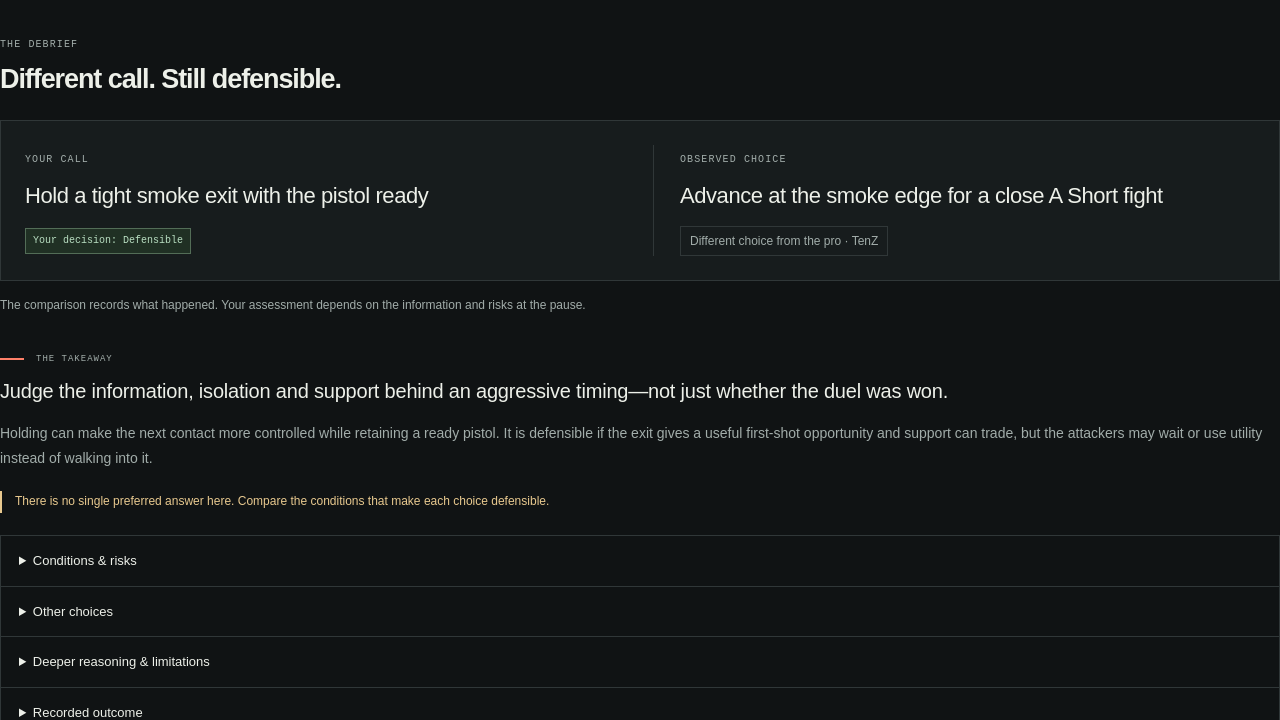
Test: shows the chosen explanation first while preserving expandable alternatives and risks
Expected: the text "Holding can make the next contact more controlled while retaining a ready pistol. It is defensible if the exit gives a u" is shown, [0, 425, 1262, 466]
Expected: the text "Judge the information, isolation and support behind an aggressive timing—not just whether the duel was won." is shown, [0, 380, 948, 402]
Click the heading "Conditions & risks".
click(85, 561)  # box [33, 553, 137, 568]
(page scrolled)
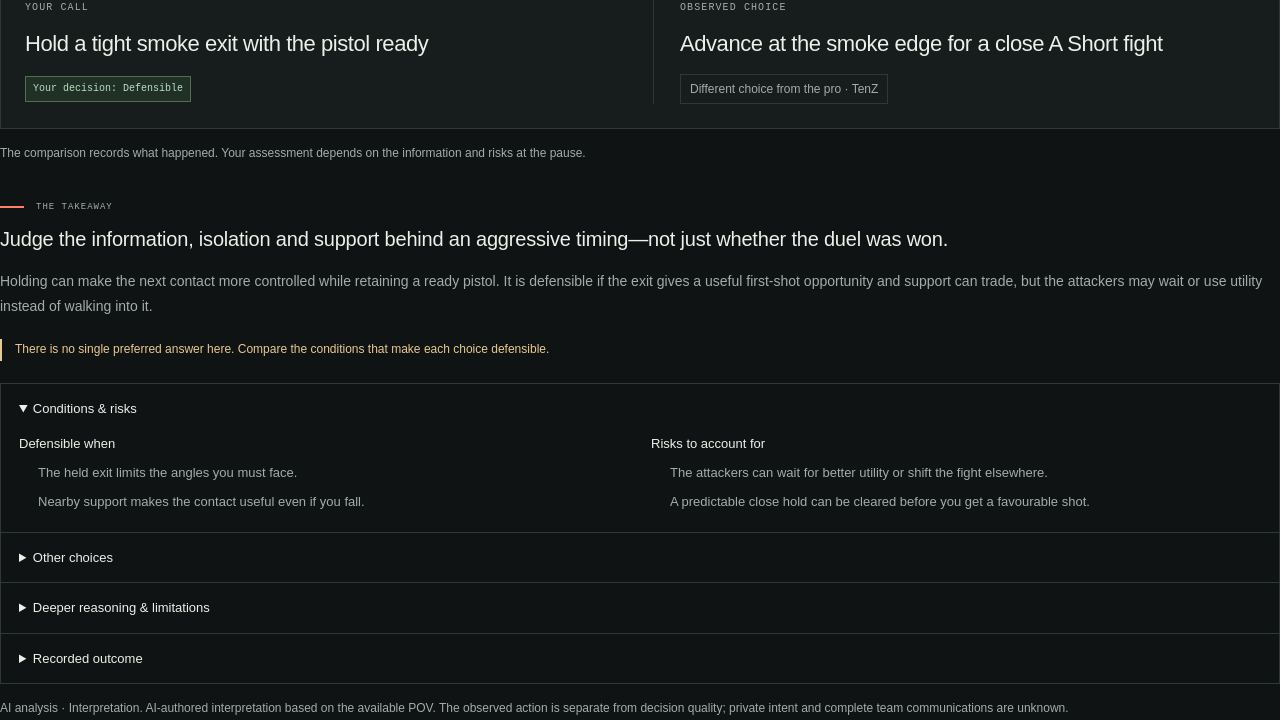
Expected: the heading "Defensible when" is shown, [19, 436, 115, 451]
Expected: the heading "Risks to account for" is shown, [651, 436, 765, 451]
Expected: the list item "The attackers can wait for better utility or shift the fight elsewhere." is shown, [670, 465, 1048, 480]
Click the heading "Other choices".
click(73, 557)  # box [33, 550, 113, 565]
(page scrolled)
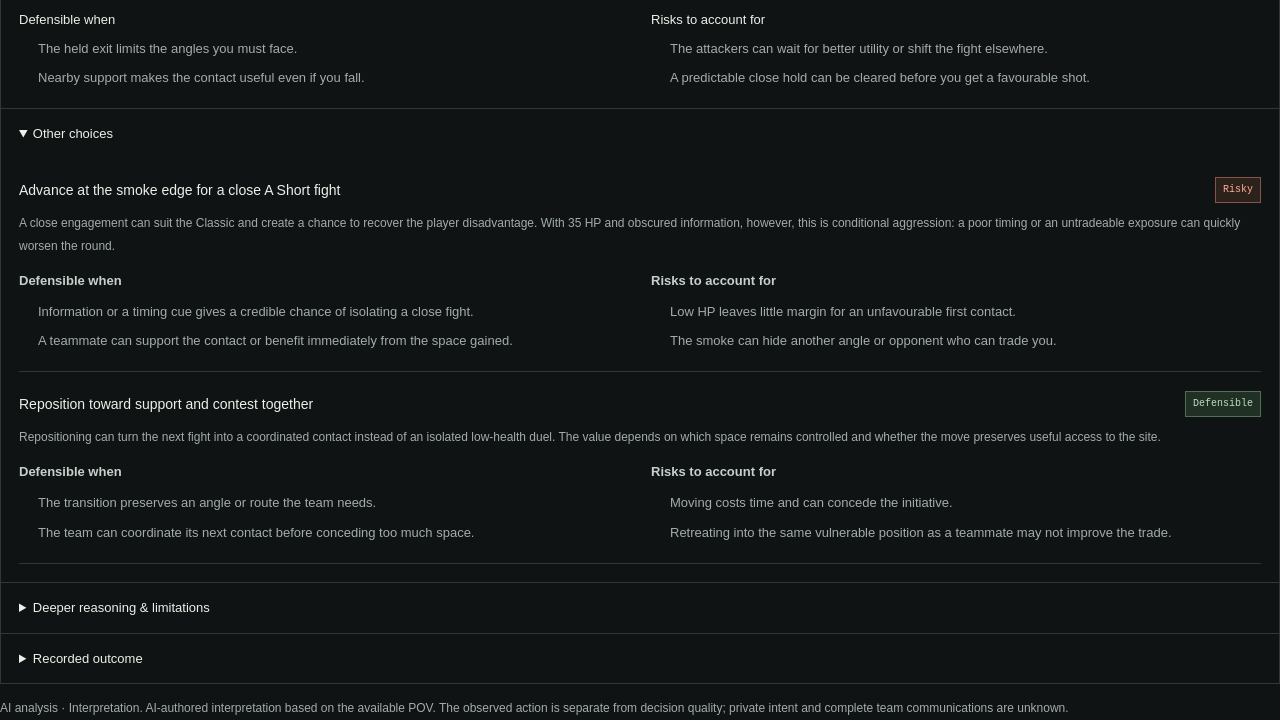
Expected: the text "A close engagement can suit the Classic and create a chance to recover the player disadvantage. With 35 HP and obscured " is shown, [19, 216, 1240, 252]
Expected: the heading "Advance at the smoke edge for a close A Short fight" is shown, [19, 180, 340, 201]
Expected: the 2nd heading "Defensible when" is shown, [19, 273, 122, 288]
